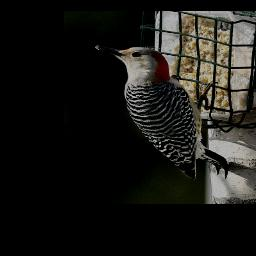Woodpecker: (94, 45, 228, 180)
